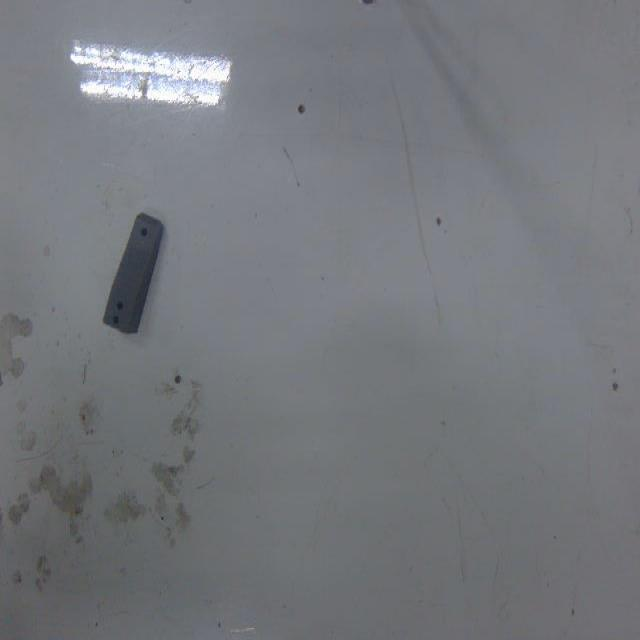grey: (99, 211, 164, 338)
head: (138, 224, 150, 238)
